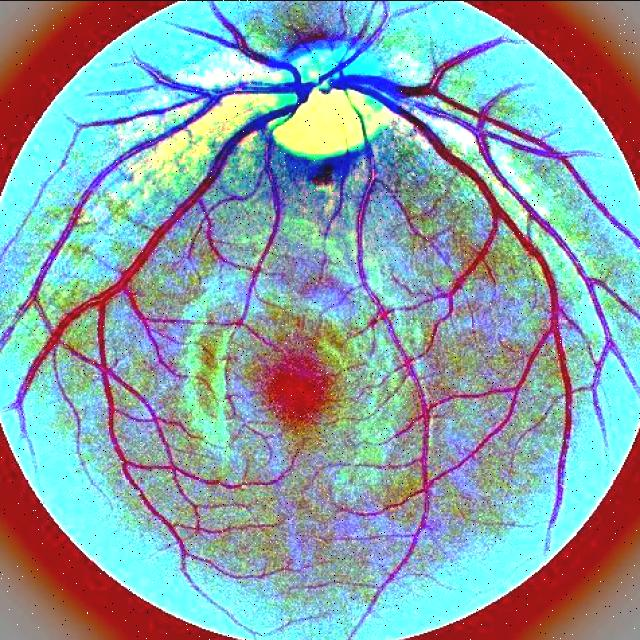Macula: (244, 334, 349, 434)
Nerves: (0, 51, 618, 451)
Optic Disk: (242, 19, 415, 184)
